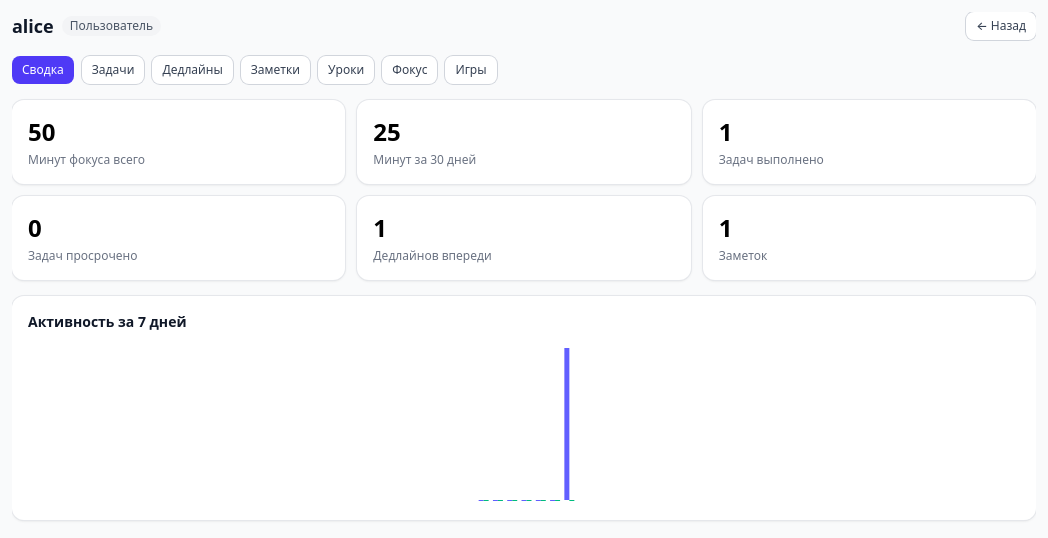
UserStats › shows the user content per tab
Click the button "Задачи". click: (113, 70)
box: [82, 56, 144, 84]
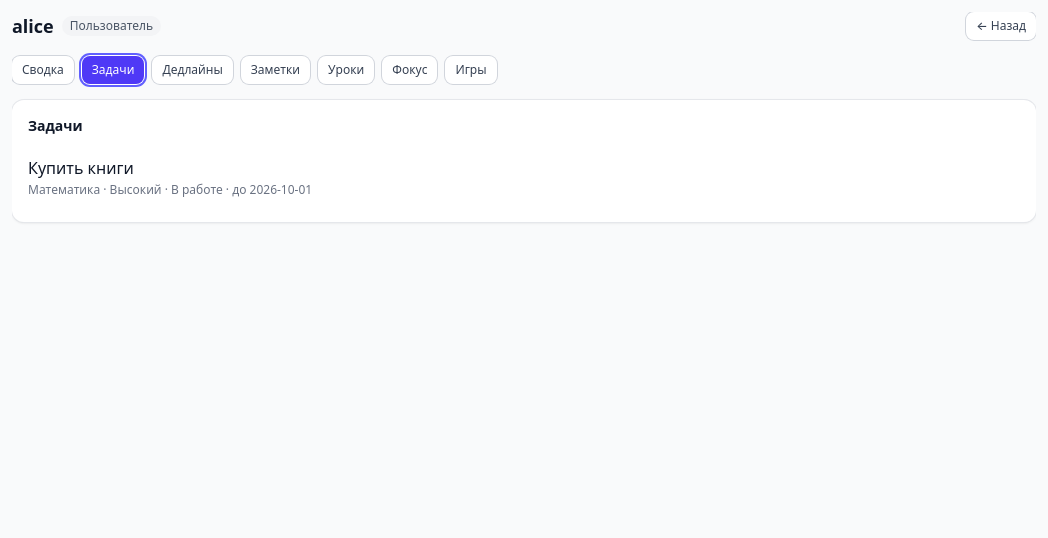
Expected: the text "Купить книги" is shown, [28, 157, 134, 179]
Click the button "Дедлайны". click: (193, 70)
box: [152, 56, 233, 84]
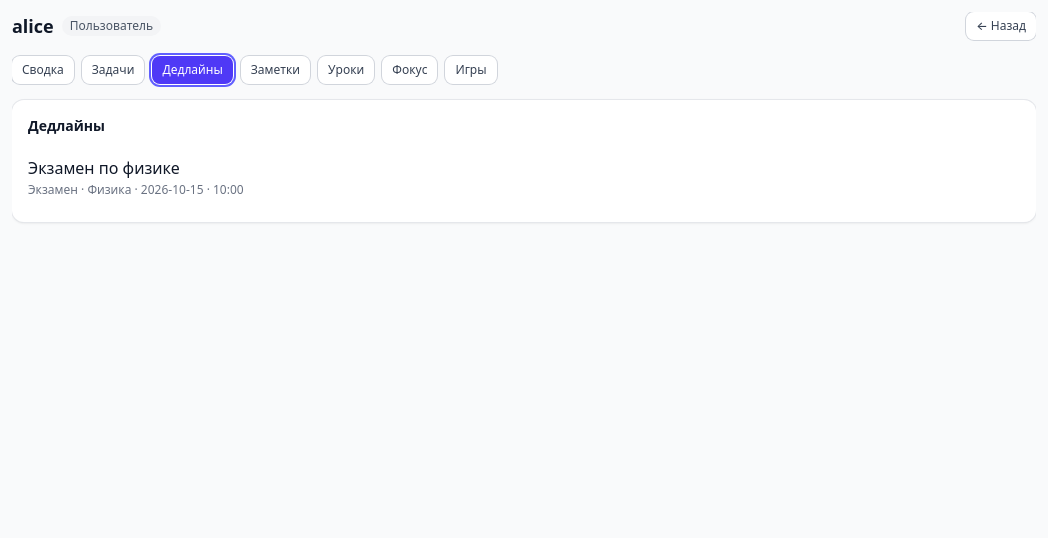
Expected: the text "Экзамен по физике" is shown, [28, 157, 180, 179]
Click the button "Заметки". click: (275, 70)
box: [241, 56, 310, 84]
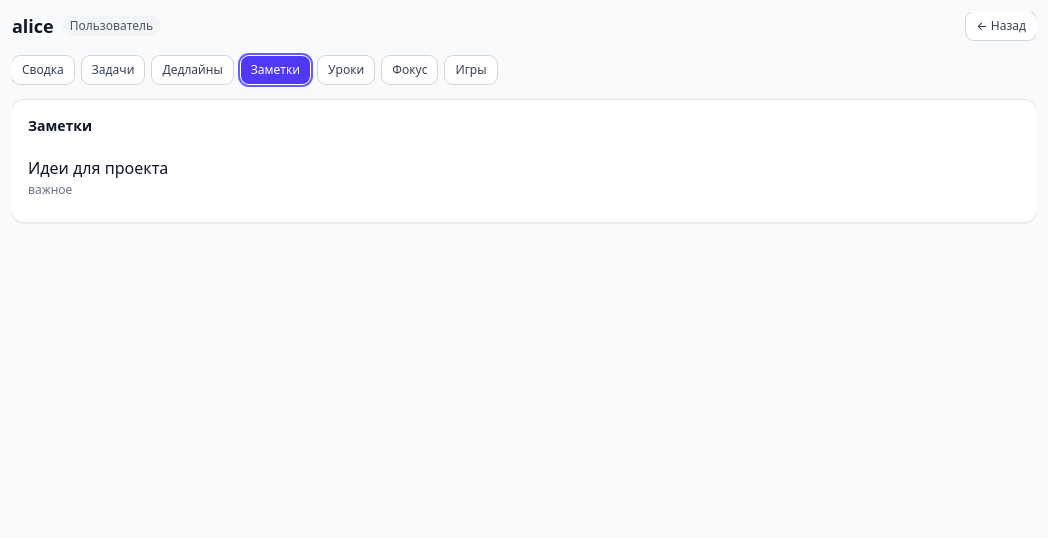
Expected: the text "Идеи для проекта" is shown, [28, 157, 168, 179]
Click the button "Уроки". click: (346, 70)
box: [318, 56, 374, 84]
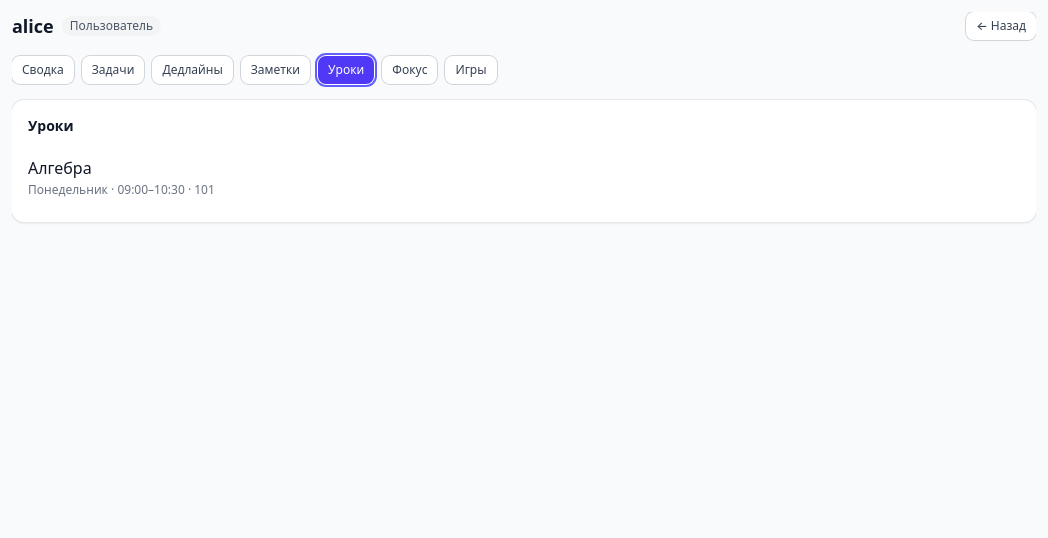
Expected: the text "Алгебра" is shown, [28, 157, 92, 179]
Click the button "Фокус". click: (410, 70)
box: [382, 56, 437, 84]
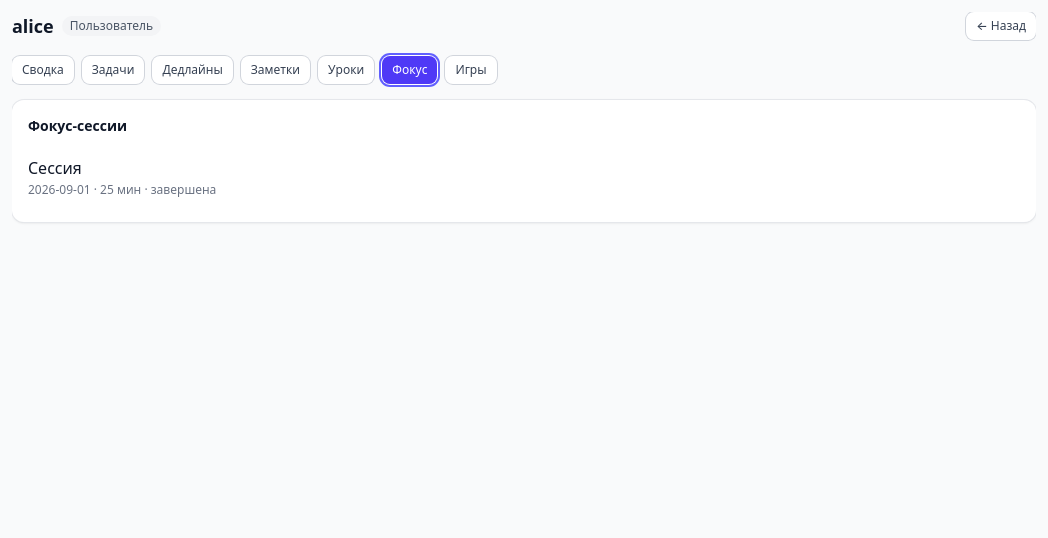
Expected: the text "Сессия" is shown, [28, 157, 82, 179]
